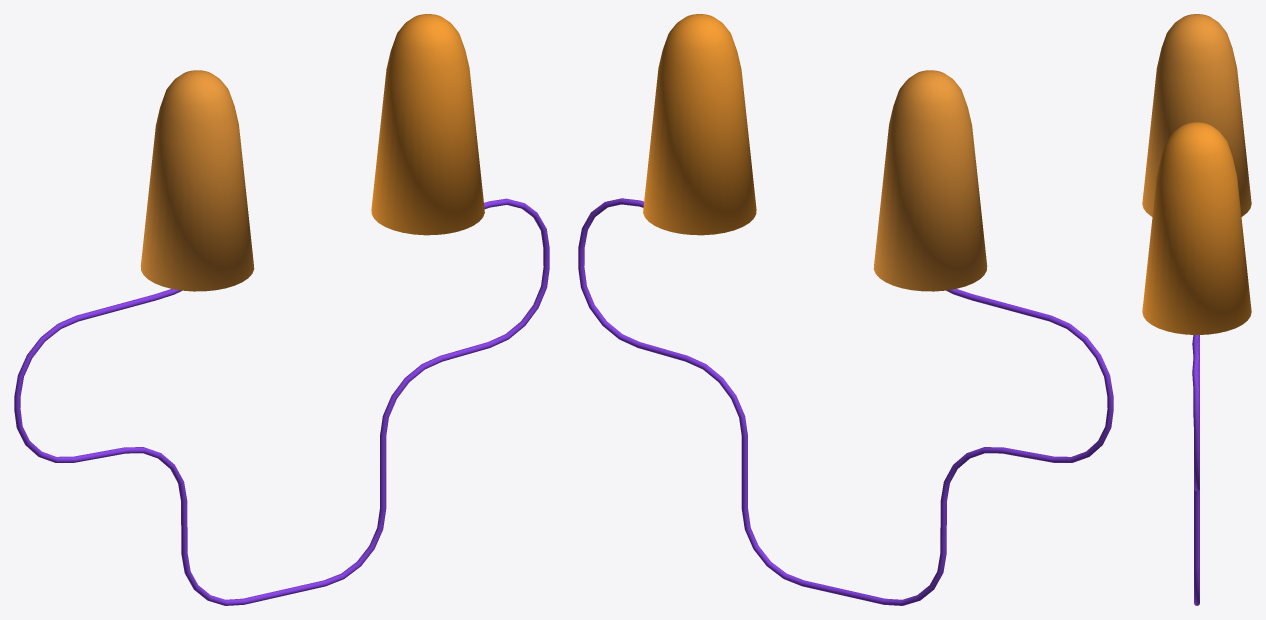
File: ØrepropperMedSnor.fbx
3 views of the same model, side by side, from view 1: azimuth 30°, elevation 25°; view 2: azimuth 150°, elevation 25°; view 3: azimuth 270°, elevation 25° (orthographic). The views are drawn at different scales.
Visible parts, largest first — view 1: Øreprop1, Øreprop2, Snor; view 2: Øreprop1, Øreprop2, Snor; view 3: Øreprop2, Øreprop1, Snor.
Part boxes in pixels (x1=…): Øreprop1: x1=140, y1=70, x2=254, y2=291; Øreprop2: x1=371, y1=14, x2=484, y2=235; Snor: x1=14, y1=198, x2=549, y2=605; Øreprop1: x1=873, y1=70, x2=987, y2=291; Øreprop2: x1=643, y1=14, x2=756, y2=235; Snor: x1=578, y1=198, x2=1113, y2=605; Øreprop2: x1=1142, y1=122, x2=1251, y2=334; Øreprop1: x1=1142, y1=14, x2=1251, y2=216; Snor: x1=1192, y1=335, x2=1199, y2=605.
Bounding box in the file's own units: 1367 × 1328 × 252.
